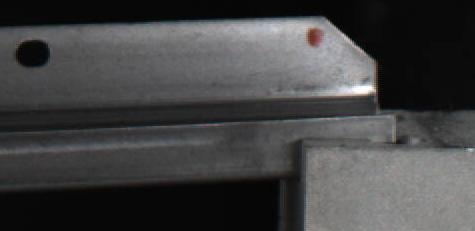cut: (240, 14, 396, 177)
holes: (13, 38, 51, 69)
